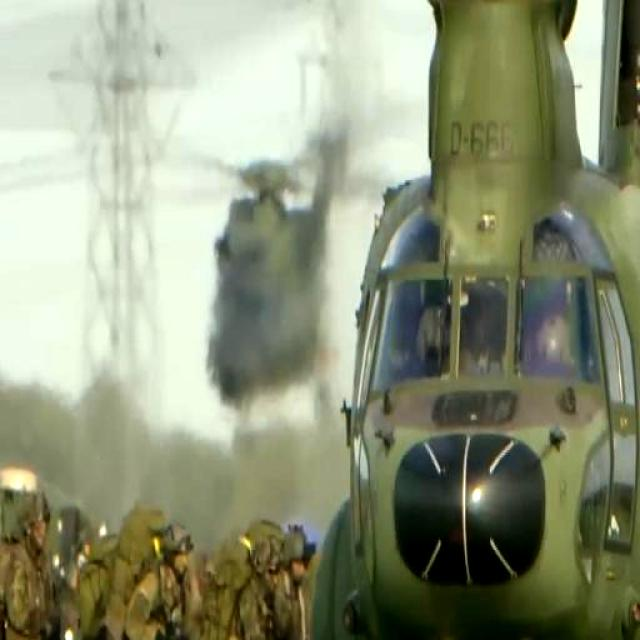drone: (280, 0, 640, 640)
